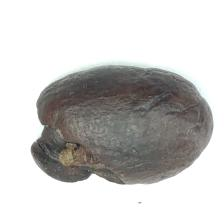NG: (30, 90, 128, 186)
